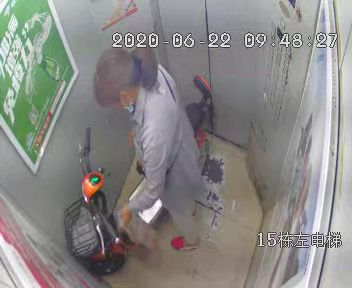Electric-bicycle: (65, 76, 213, 259)
